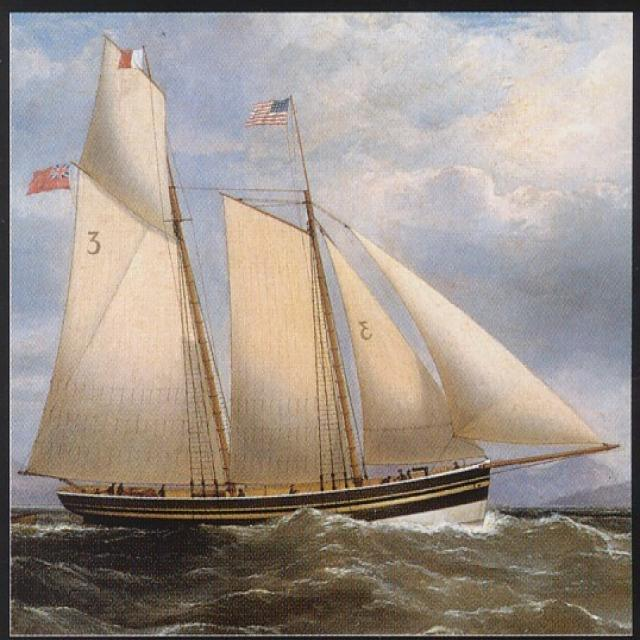Ship: (31, 35, 614, 527)
